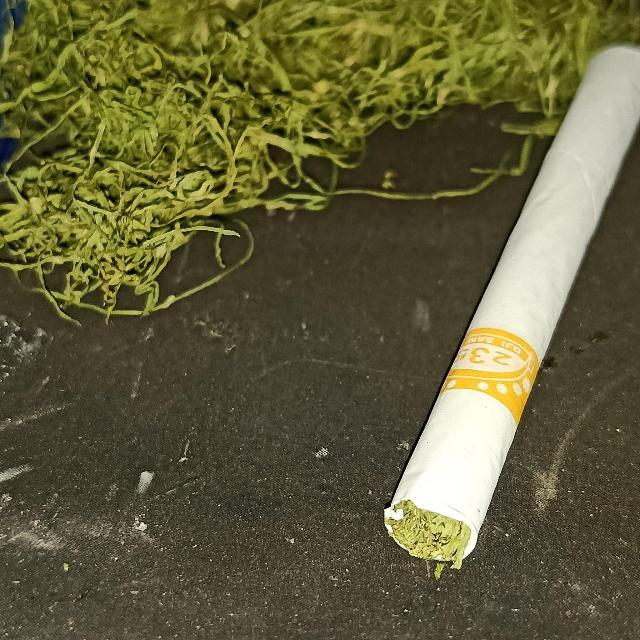rokok: (380, 43, 640, 574)
